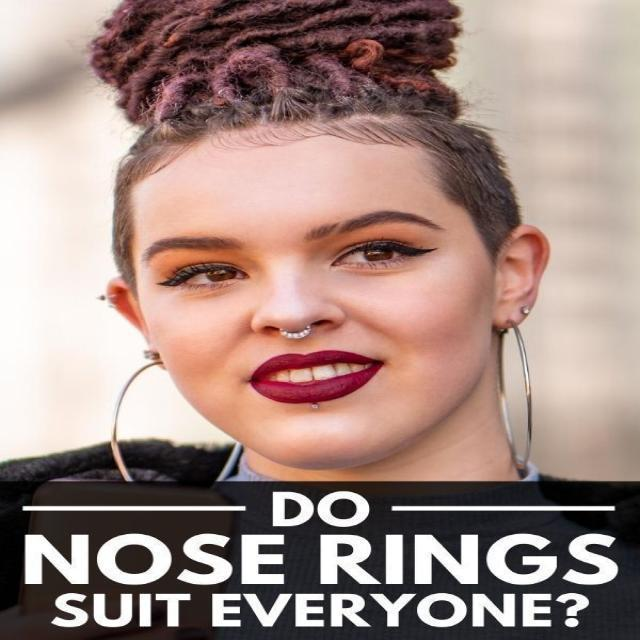Earring: (102, 344, 249, 483), (482, 302, 544, 480)
